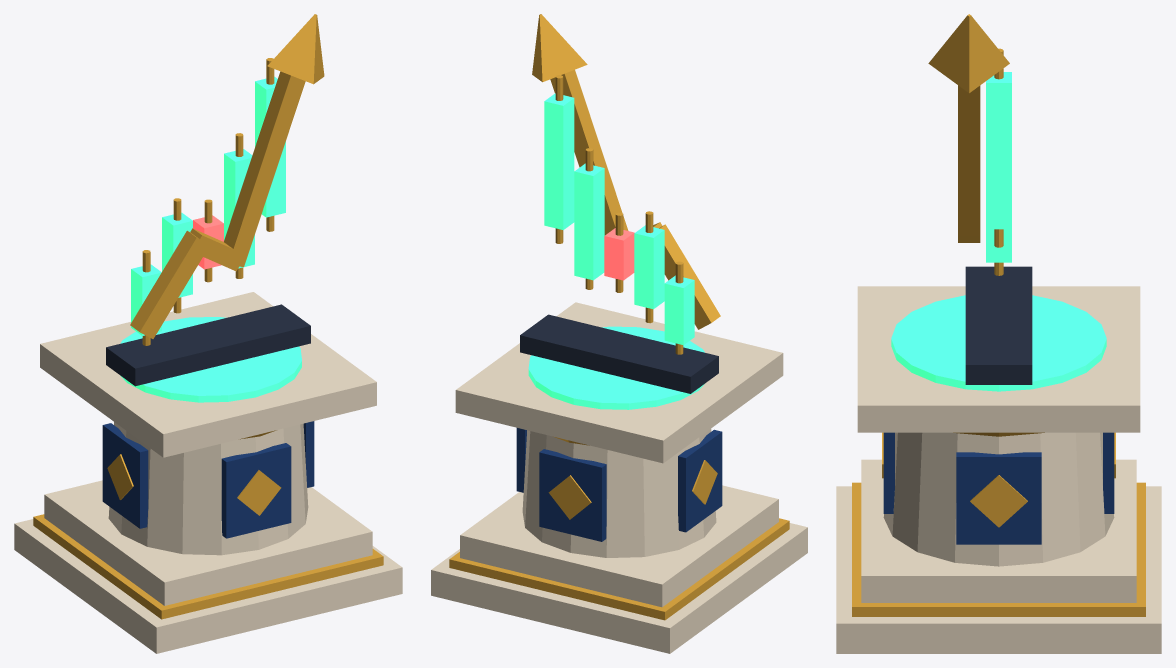
The model's file is statue-stocks.glb.
3 views of the same model, side by side, from view 1: azimuth 30°, elevation 25°; view 2: azimuth 150°, elevation 25°; view 3: azimuth 270°, elevation 25° (orthographic). The views are drawn at different scales.
Parts seen in each view (by area): view 1: Pedestal_Marble.001, Pedestal_Gold.001, Statue_Glow_Green, Statue_Dark_Grid, Pedestal_Blue.001, Statue_Red; view 2: Pedestal_Marble.001, Statue_Glow_Green, Pedestal_Gold.001, Statue_Dark_Grid, Pedestal_Blue.001, Statue_Red; view 3: Pedestal_Marble.001, Pedestal_Gold.001, Statue_Glow_Green, Pedestal_Blue.001, Statue_Dark_Grid.
Boxes of the visible parts, bbox=[...] form: Pedestal_Marble.001: bbox=[14, 292, 402, 653]; Pedestal_Gold.001: bbox=[33, 14, 383, 619]; Statue_Glow_Green: bbox=[120, 76, 301, 402]; Statue_Dark_Grid: bbox=[106, 304, 310, 386]; Pedestal_Blue.001: bbox=[102, 421, 314, 538]; Statue_Red: bbox=[193, 215, 223, 269]; Pedestal_Marble.001: bbox=[431, 302, 807, 653]; Statue_Glow_Green: bbox=[528, 93, 704, 409]; Pedestal_Gold.001: bbox=[449, 14, 789, 620]; Statue_Dark_Grid: bbox=[520, 314, 718, 393]; Pedestal_Blue.001: bbox=[516, 428, 722, 541]; Statue_Red: bbox=[604, 228, 634, 280]; Pedestal_Marble.001: bbox=[836, 286, 1161, 653]; Pedestal_Gold.001: bbox=[852, 14, 1145, 616]; Statue_Glow_Green: bbox=[891, 72, 1106, 391]; Pedestal_Blue.001: bbox=[883, 432, 1114, 544]; Statue_Dark_Grid: bbox=[965, 266, 1032, 384].
Size of the model in its own units: 1.75 by 3.7 by 1.75.
